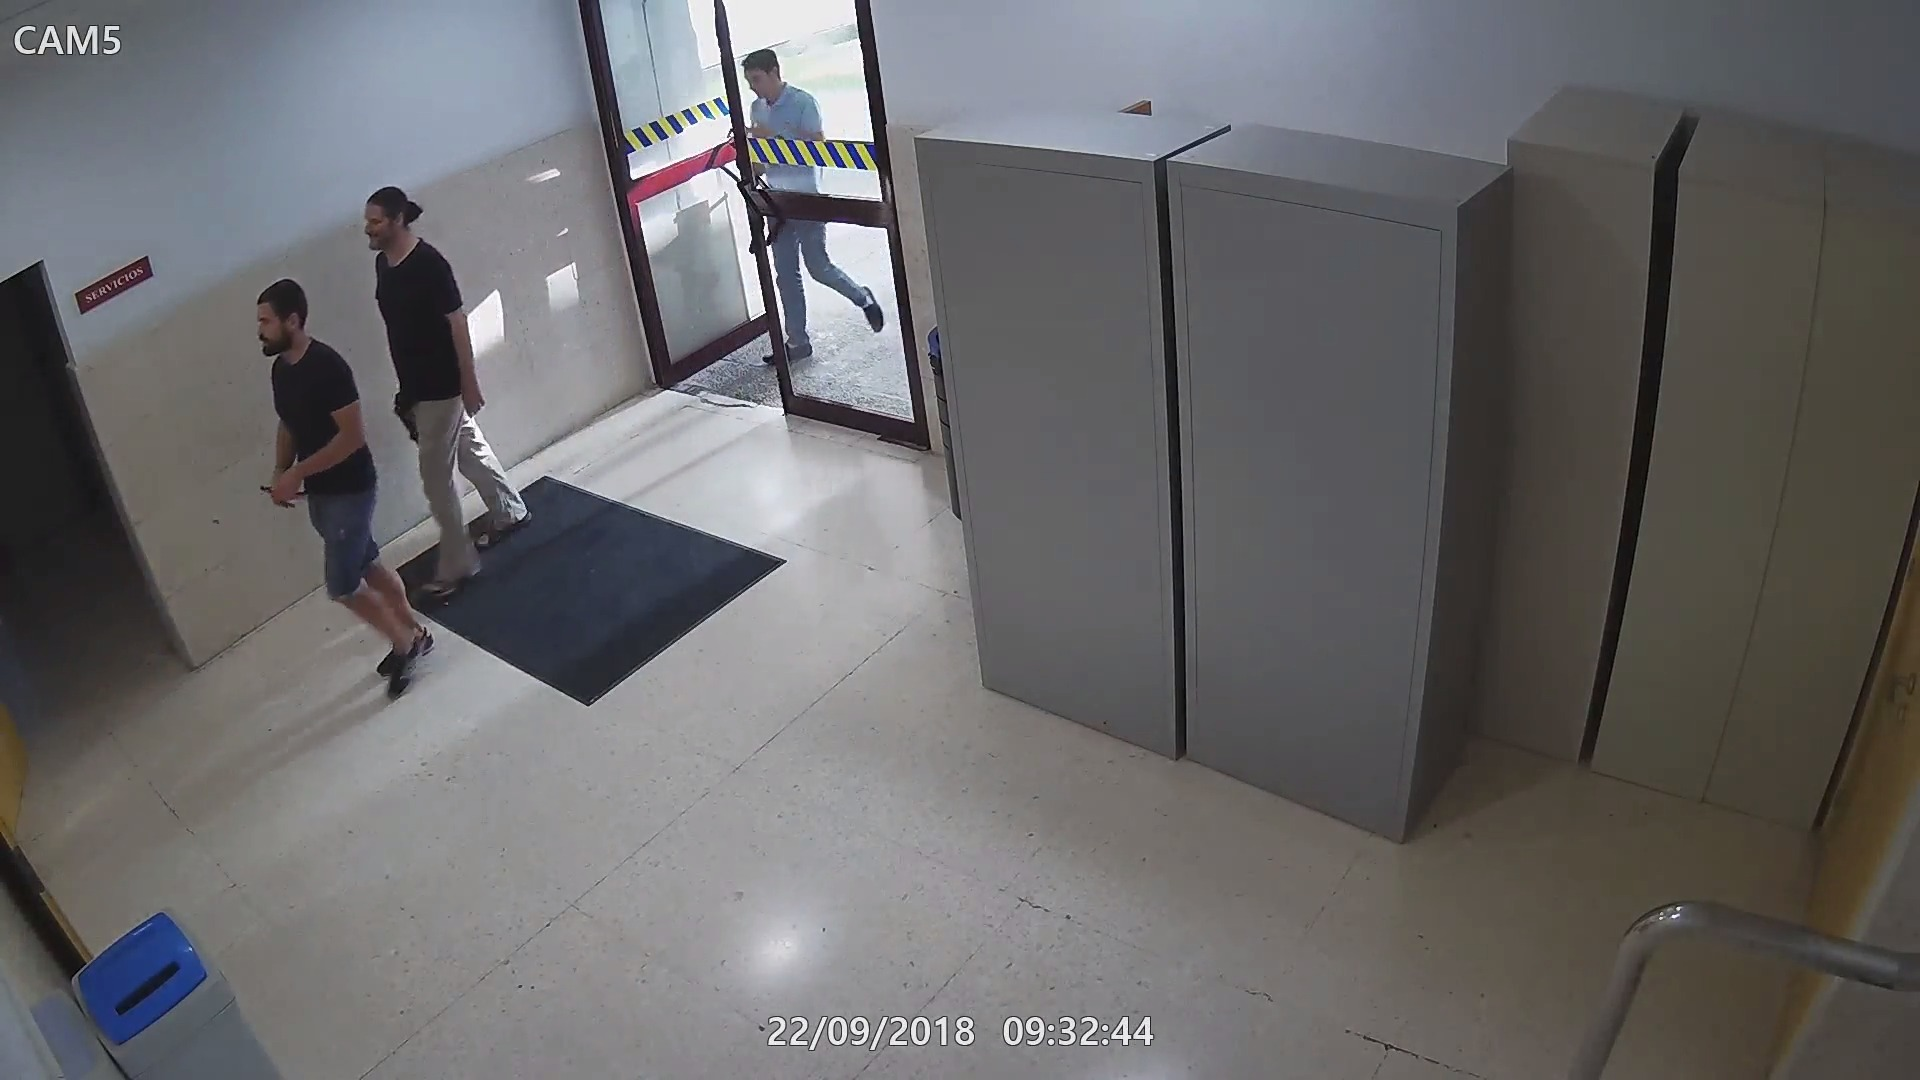Handgun: (255, 479, 324, 516)
Short_rifle: (392, 384, 423, 448)
